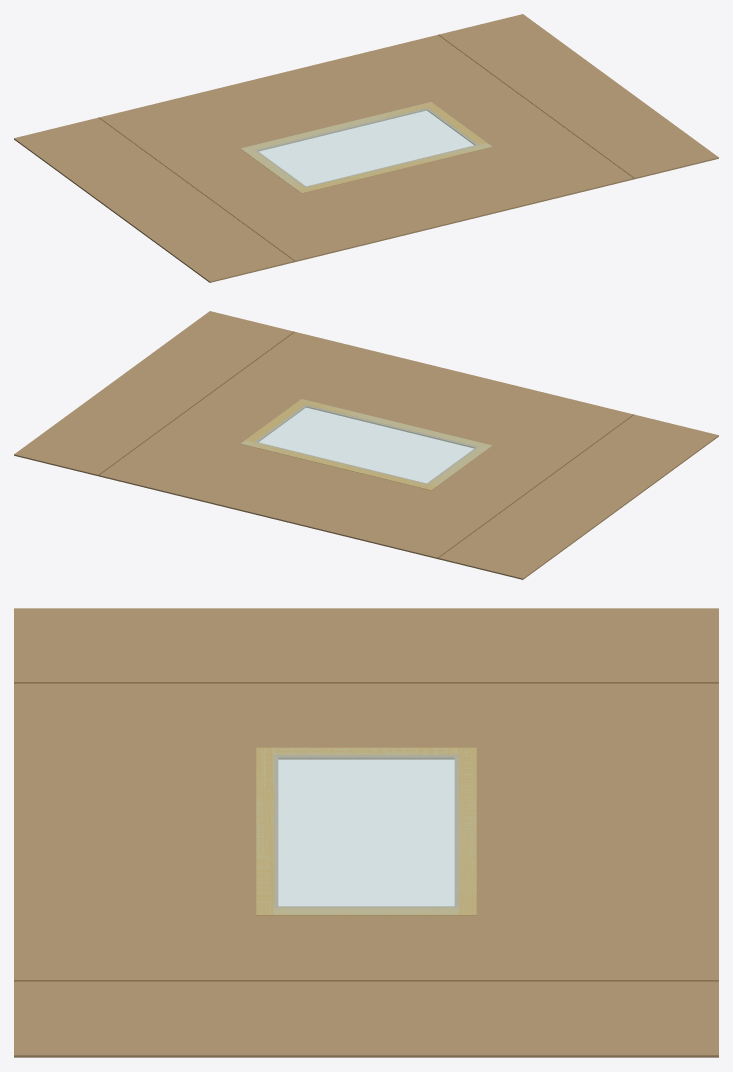
File: paper.glb
3 renders of one model, top to bottom at view 1: azimuth 30°, elevation 25°; view 2: azimuth 150°, elevation 25°; view 3: azimuth 270°, elevation 25°, orthographic. The views are drawn at different scales.
Parts seen in each view (by area): view 1: WindowSide_-1, WindowSide_1, WindowEnd_1, WindowEnd_-1, ActualPETPatch, FilmGlueLong_1, FilmGlueLong_-1, FilmGlueEnd_1, FilmGlueEnd_-1; view 2: WindowSide_-1, WindowSide_1, WindowEnd_-1, WindowEnd_1, ActualPETPatch, FilmGlueLong_-1, FilmGlueLong_1, FilmGlueEnd_1, FilmGlueEnd_-1; view 3: WindowSide_1, WindowSide_-1, WindowEnd_-1, WindowEnd_1, ActualPETPatch, FilmGlueLong_-1, FilmGlueLong_1, FilmGlueEnd_-1, FilmGlueEnd_1, WindowCrease_-0.16, WindowCrease_0.16.
Part boxes in pixels (x1,y1,x2,y2): WindowSide_-1: (14, 97, 379, 282); WindowSide_1: (353, 14, 718, 199); WindowEnd_1: (306, 145, 549, 241); WindowEnd_-1: (184, 55, 426, 151); ActualPETPatch: (240, 102, 491, 192); FilmGlueLong_1: (297, 143, 492, 193); FilmGlueLong_-1: (241, 102, 435, 151); FilmGlueEnd_1: (428, 105, 487, 144); FilmGlueEnd_-1: (245, 150, 304, 189); WindowSide_-1: (353, 394, 718, 579); WindowSide_1: (14, 311, 379, 496); WindowEnd_-1: (183, 442, 426, 538); WindowEnd_1: (306, 352, 548, 448); ActualPETPatch: (241, 399, 492, 489); FilmGlueLong_-1: (240, 440, 435, 490); FilmGlueLong_1: (297, 399, 491, 448); FilmGlueEnd_1: (245, 402, 304, 442); FilmGlueEnd_-1: (428, 447, 487, 486); WindowSide_1: (14, 906, 718, 1057); WindowSide_-1: (14, 608, 718, 759); WindowEnd_-1: (454, 757, 718, 906); WindowEnd_1: (14, 757, 278, 906); ActualPETPatch: (256, 747, 476, 915); FilmGlueLong_-1: (459, 747, 476, 915); FilmGlueLong_1: (256, 747, 273, 915); FilmGlueEnd_-1: (274, 747, 458, 755); FilmGlueEnd_1: (274, 908, 458, 915); WindowCrease_-0.16: (14, 682, 718, 683); WindowCrease_0.16: (14, 980, 718, 981).
Bounding box in the file's own units: 0.48 × 0.00145 × 0.32.
